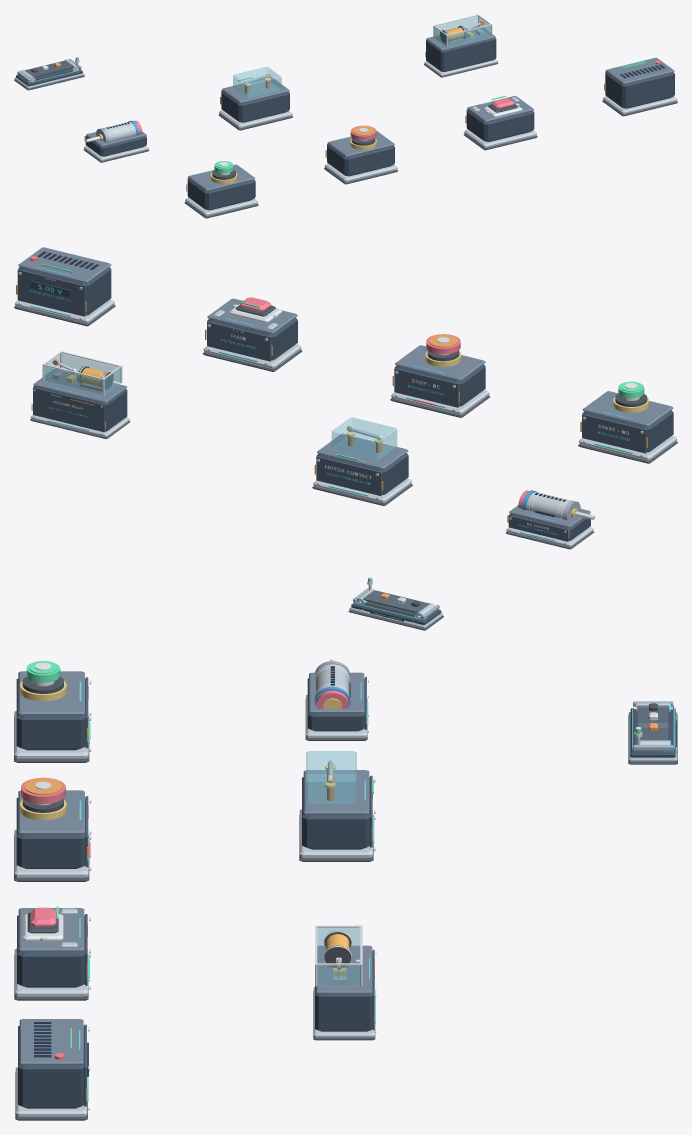
The model's file is Level31_Fitted_Assembly.fbx.
3 renders of one model, top to bottom at view 1: azimuth 30°, elevation 25°; view 2: azimuth 150°, elevation 25°; view 3: azimuth 270°, elevation 25°, orthographic. The views are drawn at different scales.
Visible parts, largest first — view 1: L31_Supply_Static__graphite, L31_Relay_Static__graphite, L31_Main_Static__graphite, L31_Drive_Static__graphite, L31_Start_Static__graphite, L31_Stop_Static__graphite, L31_Drive_Static__glass_lid, L31_Relay_Static__glass_lid, L31_Supply_Static__mid_steel, L31_Drive_Static__mid_steel, L31_Motor_Static__titanium, L31_Start_Static__mid_steel (+15 smaller); view 2: L31_Drive_Static__glass_lid, L31_Relay_Static__deep_steel, L31_Supply_Static__deep_steel, L31_Relay_Static__glass_lid, L31_Drive_Static__mid_steel, L31_Main_Static__deep_steel, L31_Supply_Static__mid_steel, L31_Drive_Static__deep_steel, L31_Stop_Static__deep_steel, L31_Start_Static__deep_steel, L31_Start_Static__mid_steel, L31_Stop_Static__mid_steel (+21 smaller); view 3: L31_Supply_Static__graphite, L31_Drive_Static__mid_steel, L31_Drive_Static__glass_lid, L31_Start_Static__graphite, L31_Supply_Static__mid_steel, L31_Stop_Static__graphite, L31_Main_Static__graphite, L31_Drive_Static__graphite, L31_Relay_Static__graphite, L31_Relay_Static__mid_steel, L31_Start_Static__mid_steel, L31_Stop_Static__mid_steel (+18 smaller).
Part boxes in pixels (<box>): L31_Supply_Static__graphite: <box>605,72,674,108</box>; L31_Relay_Static__graphite: <box>426,38,496,71</box>; L31_Main_Static__graphite: <box>467,110,534,141</box>; L31_Drive_Static__graphite: <box>221,91,289,122</box>; L31_Start_Static__graphite: <box>188,179,255,210</box>; L31_Stop_Static__graphite: <box>327,145,394,176</box>; L31_Drive_Static__glass_lid: <box>233,67,281,98</box>; L31_Relay_Static__glass_lid: <box>434,16,490,46</box>; L31_Supply_Static__mid_steel: <box>605,57,674,84</box>; L31_Drive_Static__mid_steel: <box>221,77,289,103</box>; L31_Motor_Static__titanium: <box>84,122,148,160</box>; L31_Start_Static__mid_steel: <box>188,164,255,190</box>; L31_Drive_Static__glass_lid: <box>331,417,397,460</box>; L31_Relay_Static__deep_steel: <box>33,387,104,432</box>; L31_Supply_Static__deep_steel: <box>17,269,85,316</box>; L31_Relay_Static__glass_lid: <box>44,353,120,394</box>; L31_Drive_Static__mid_steel: <box>317,434,408,499</box>; L31_Main_Static__deep_steel: <box>207,321,271,361</box>; L31_Supply_Static__mid_steel: <box>18,247,111,319</box>; L31_Drive_Static__deep_steel: <box>316,456,381,495</box>; L31_Stop_Static__deep_steel: <box>394,368,458,407</box>; L31_Start_Static__deep_steel: <box>582,414,646,453</box>; L31_Start_Static__mid_steel: <box>582,391,673,456</box>; L31_Stop_Static__mid_steel: <box>395,345,485,410</box>; L31_Supply_Static__graphite: <box>18,1026,84,1108</box>; L31_Drive_Static__mid_steel: <box>303,770,375,849</box>; L31_Drive_Static__glass_lid: <box>306,751,356,804</box>; L31_Start_Static__graphite: <box>16,678,85,750</box>; L31_Supply_Static__mid_steel: <box>19,1019,83,1064</box>; L31_Stop_Static__graphite: <box>16,797,85,868</box>; L31_Main_Static__graphite: <box>17,915,84,987</box>; L31_Drive_Static__graphite: <box>302,777,369,849</box>; L31_Relay_Static__graphite: <box>315,950,372,1031</box>; L31_Relay_Static__mid_steel: <box>316,945,372,993</box>; L31_Start_Static__mid_steel: <box>18,671,91,750</box>; L31_Stop_Static__mid_steel: <box>18,790,91,869</box>.
Size of the model in its own units: 147 by 11.99 by 96.73.
